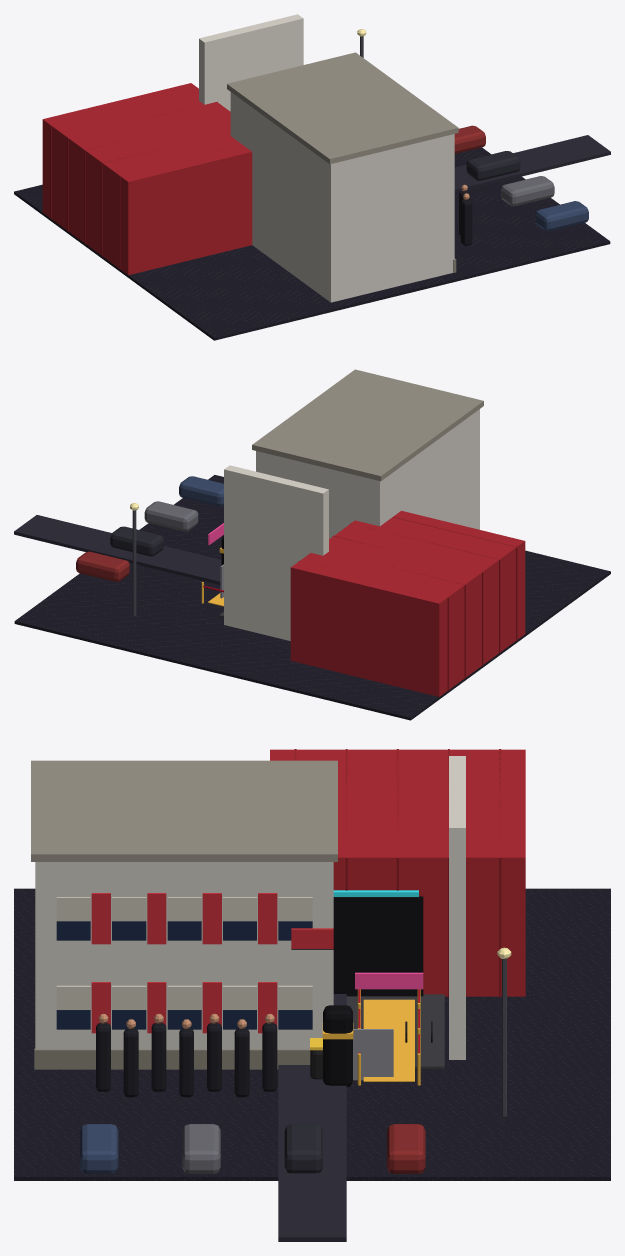
File: decor_kalt_ext.glb
The picture shows the model from 3 angles, top to bottom: view 1: azimuth 30°, elevation 25°; view 2: azimuth 150°, elevation 25°; view 3: azimuth 270°, elevation 25°; orthographic projection. The views are drawn at different scales.
Parts seen in each view (by area): view 1: p_box.038, p_box.002, p_box, p_box.003, p_box.046, p_box.001, p_rbox.010, p_rbox.009, p_rbox.011, p_rbox.012, p_rbox.007; view 2: p_box.038, p_box, p_box.003, p_box.046, p_box.002, p_box.001, p_rbox.010, p_rbox.012, p_rbox.011, p_rbox.009, p_cyl.011; view 3: p_box, p_box.038, p_box.003, p_box.002, p_box.001, p_box.044, p_box.046, p_box.004, p_box.047, p_box.035, p_rbox.008, p_box.036 (+38 smaller).
Part boxes in pixels (x1,y1,x2,y2): p_box.038: [42, 83, 252, 275]; p_box.002: [230, 92, 454, 302]; p_box: [14, 147, 610, 340]; p_box.003: [227, 52, 458, 164]; p_box.046: [199, 14, 303, 111]; p_box.001: [454, 135, 610, 192]; p_rbox.010: [501, 176, 554, 206]; p_rbox.009: [535, 201, 588, 231]; p_rbox.011: [466, 151, 520, 180]; p_rbox.012: [454, 125, 485, 153]; p_rbox.007: [460, 199, 472, 245]; p_box.038: [290, 510, 525, 696]; p_box: [14, 475, 610, 720]; p_box.003: [252, 369, 483, 481]; p_box.046: [224, 465, 328, 640]; p_box.002: [256, 409, 479, 538]; p_box.001: [14, 515, 221, 584]; p_rbox.010: [144, 501, 198, 531]; p_rbox.012: [76, 551, 129, 581]; p_rbox.011: [110, 526, 163, 556]; p_rbox.009: [179, 476, 223, 506]; p_cyl.011: [132, 510, 136, 616]; p_box: [14, 888, 610, 1180]; p_box.038: [270, 749, 525, 996]; p_box.003: [31, 760, 337, 861]; p_box.002: [35, 862, 333, 1049]; p_box.001: [278, 994, 346, 1241]; p_box.044: [333, 896, 423, 996]; p_box.046: [449, 756, 465, 1059]; p_box.004: [34, 1048, 310, 1069]; p_box.047: [363, 999, 414, 1081]; p_box.035: [346, 994, 444, 1068]; p_rbox.008: [323, 1005, 352, 1087]; p_box.036: [353, 1029, 393, 1080].
Size of the model in its own units: 19.62 by 6.1 by 14.
30 materials, 1 textured.
